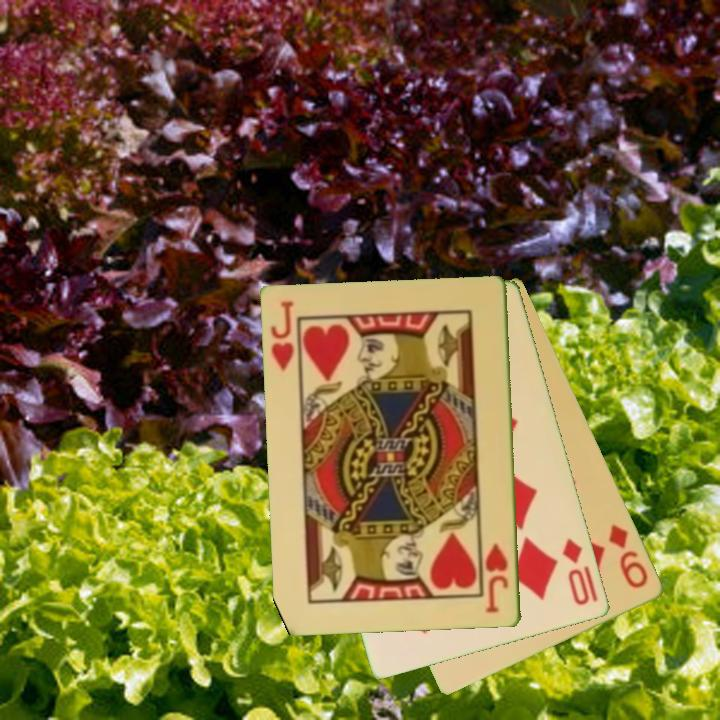10d: (558, 535, 593, 609)
9d: (605, 521, 652, 592)
Jh: (482, 540, 511, 617), (268, 298, 297, 375)
